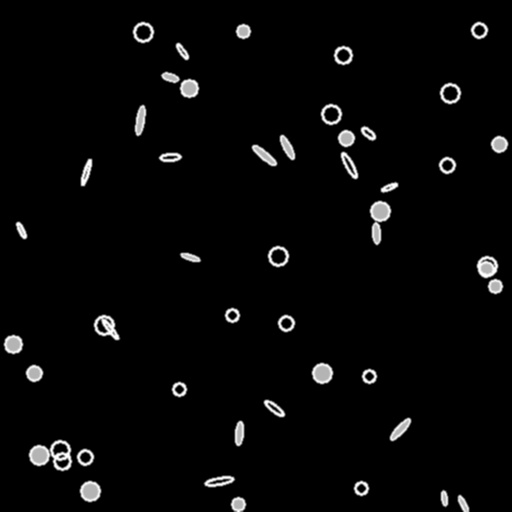pseudomonas: (251, 143, 277, 167), (388, 417, 412, 441), (339, 151, 359, 179), (100, 318, 120, 340), (263, 399, 285, 417), (79, 158, 93, 186), (279, 135, 295, 159), (205, 475, 233, 487), (134, 106, 146, 134), (359, 125, 377, 141), (175, 42, 189, 60), (15, 221, 27, 239), (161, 71, 179, 83), (380, 181, 398, 193), (457, 495, 469, 512), (180, 252, 200, 262), (372, 222, 380, 244), (159, 153, 181, 161), (235, 422, 243, 444), (440, 490, 448, 506)
synechocystis: (269, 247, 287, 265), (313, 364, 331, 382), (95, 316, 113, 334), (30, 446, 48, 464), (441, 84, 459, 102), (81, 482, 99, 500), (478, 257, 496, 275), (134, 23, 152, 41), (322, 105, 340, 123), (371, 202, 389, 220), (51, 441, 69, 459), (54, 453, 70, 469), (181, 80, 197, 96), (5, 336, 21, 352), (335, 47, 351, 63), (479, 262, 493, 276), (78, 450, 92, 464), (279, 316, 293, 330), (27, 366, 41, 380), (440, 158, 454, 172), (472, 23, 486, 37), (492, 137, 506, 151), (339, 131, 353, 145), (489, 280, 501, 292), (237, 25, 249, 37), (173, 383, 185, 395), (363, 370, 375, 382), (232, 498, 244, 510), (226, 309, 238, 321), (355, 482, 367, 494)
